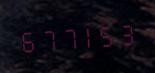five: (98, 18, 117, 50)
one: (78, 20, 97, 51)
seven: (37, 22, 56, 54), (58, 21, 77, 52)
six: (17, 24, 36, 55)
three: (118, 17, 137, 48)
